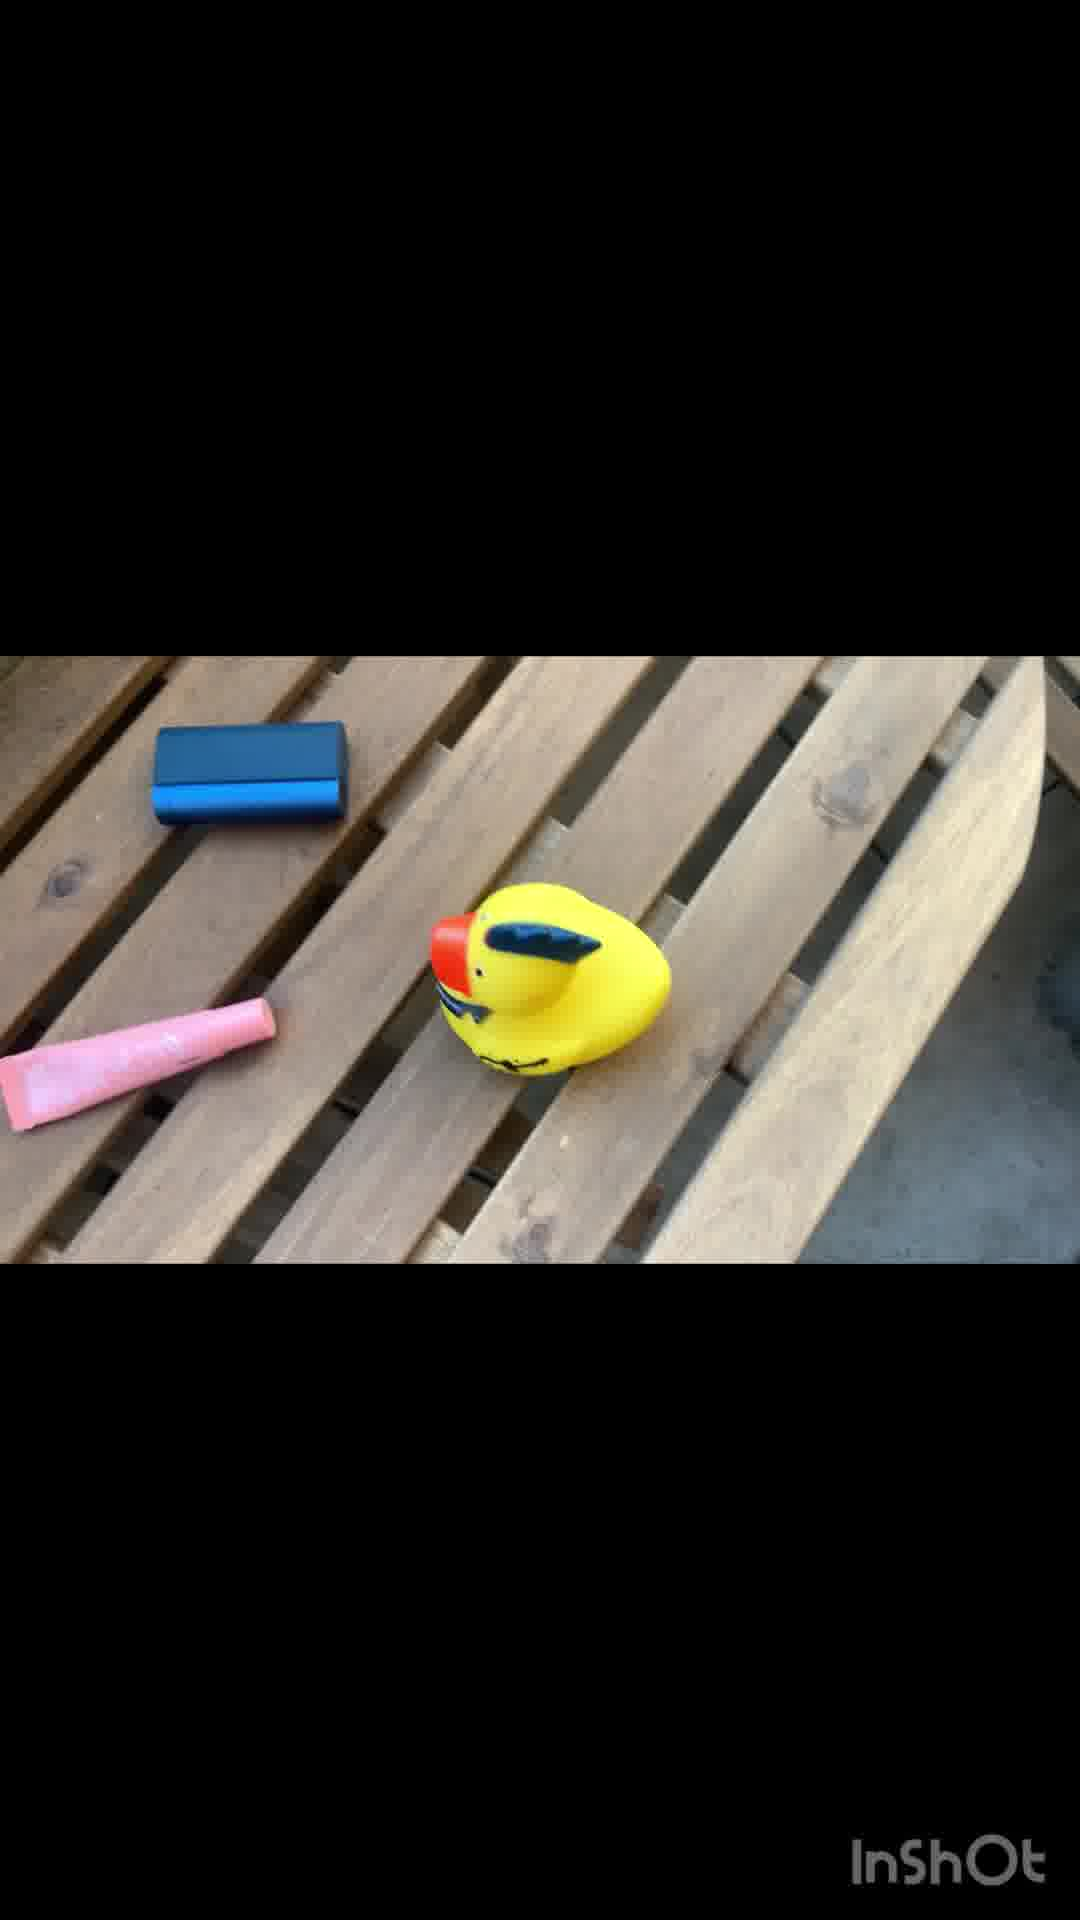duck: (429, 866, 676, 1085)
glo: (128, 716, 369, 836)
lip balm: (11, 986, 272, 1139)
